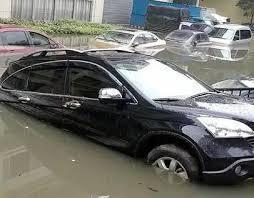water: (0, 102, 253, 197), (147, 37, 253, 84), (53, 34, 127, 49), (0, 54, 27, 74)
